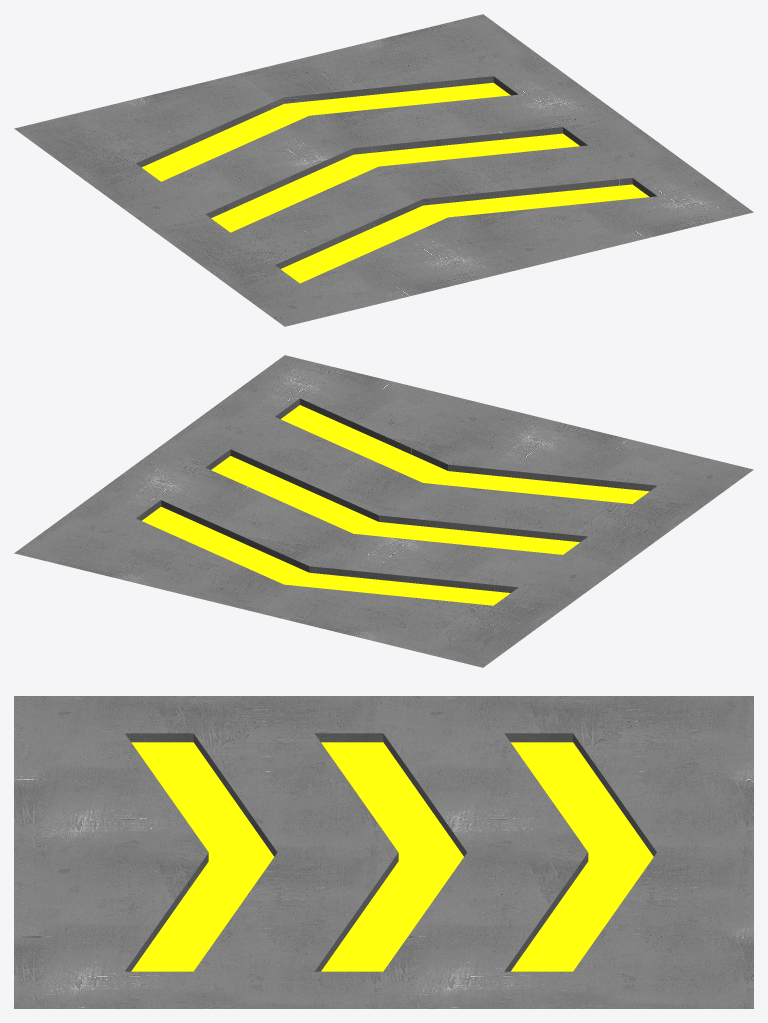
File: speedup.glb
3 renders of one model, top to bottom at view 1: azimuth 30°, elevation 25°; view 2: azimuth 150°, elevation 25°; view 3: azimuth 270°, elevation 25°, orthographic. The views are drawn at different scales.
Parts seen in each view (by area): view 1: tile; view 2: tile; view 3: tile.
Part boxes in pixels (box(x1,y1,x2,y2)): tile: box(14, 14, 753, 326); tile: box(14, 355, 753, 667); tile: box(14, 696, 753, 1008).
Size of the model in its own units: 3.9 by 0.0516 by 3.9.
Materials: 1 (1 with a texture image).
